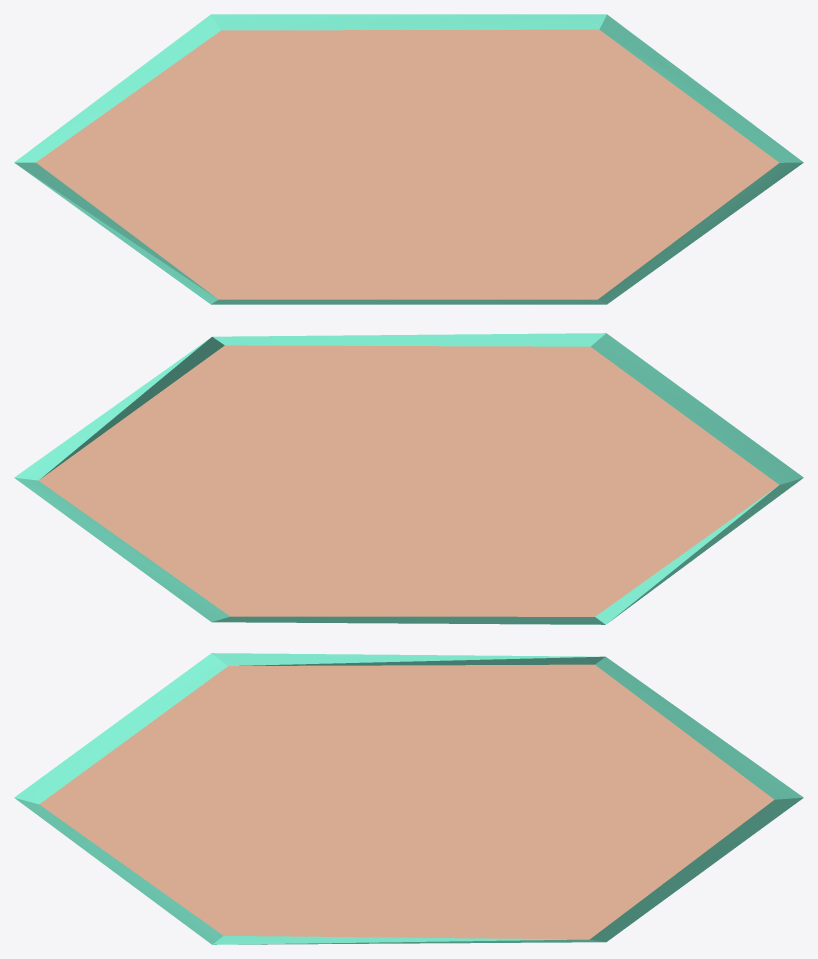
The picture shows the model from 3 angles, top to bottom: view 1: azimuth 30°, elevation 25°; view 2: azimuth 150°, elevation 25°; view 3: azimuth 270°, elevation 25°; orthographic projection.
Parts seen in each view (by area): view 1: grass; view 2: grass; view 3: grass.
Boxes of the visible parts, bbox=[...] form: grass: bbox=[14, 14, 803, 304]; grass: bbox=[14, 333, 803, 624]; grass: bbox=[14, 653, 803, 944].
Bounding box in the file's own units: 101 × 0.8333 × 117.
